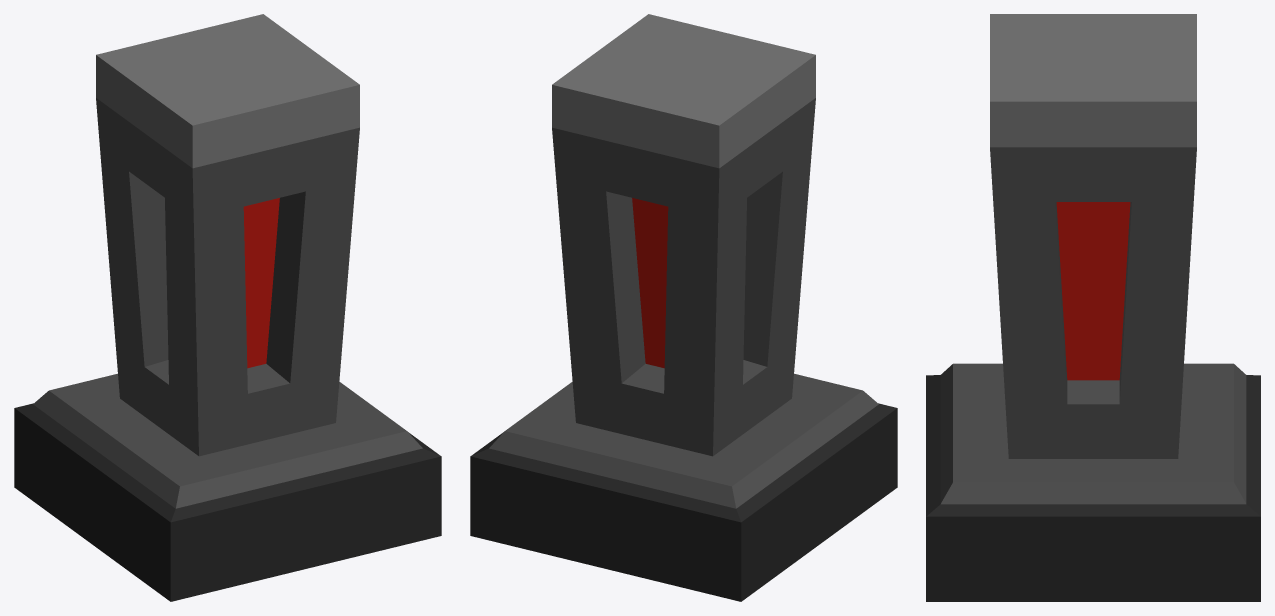
Rendered from Pedestal.fbx.
The picture shows the model from 3 angles, left to right: view 1: azimuth 30°, elevation 25°; view 2: azimuth 150°, elevation 25°; view 3: azimuth 270°, elevation 25°; orthographic projection. The views are drawn at different scales.
Visible parts, largest first — view 1: Cube; view 2: Cube; view 3: Cube.
Boxes of the visible parts, bbox=[...] form: Cube: bbox=[14, 14, 441, 601]; Cube: bbox=[470, 14, 897, 601]; Cube: bbox=[926, 14, 1260, 601].
Size of the model in its own units: 174 by 272 by 174.
Materials: 1 (1 with a texture image).
